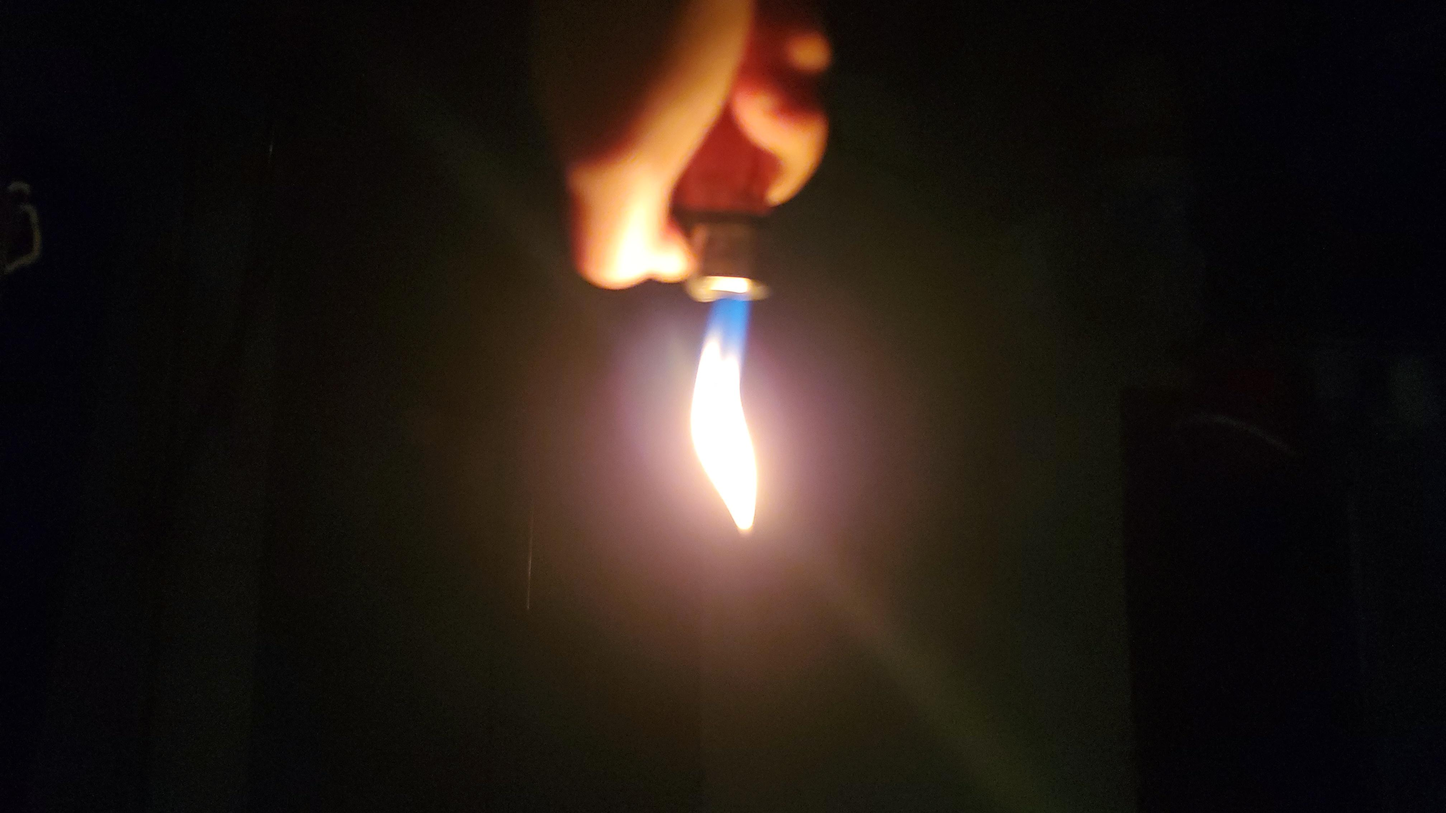fire: (687, 260, 795, 519)
